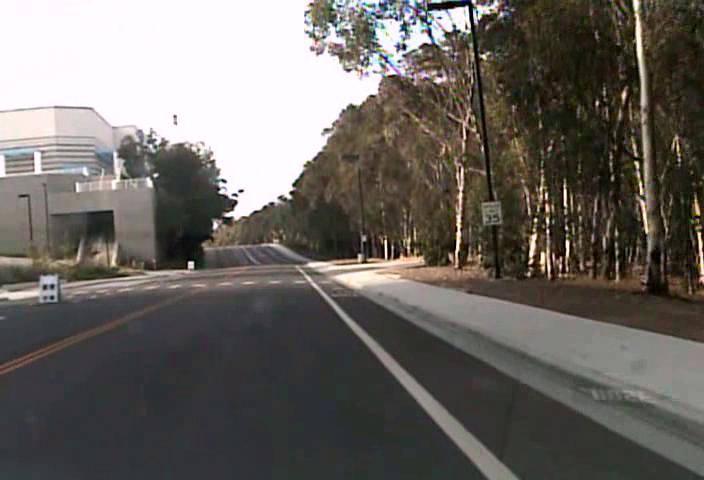speedLimit35: (480, 199, 504, 227)
